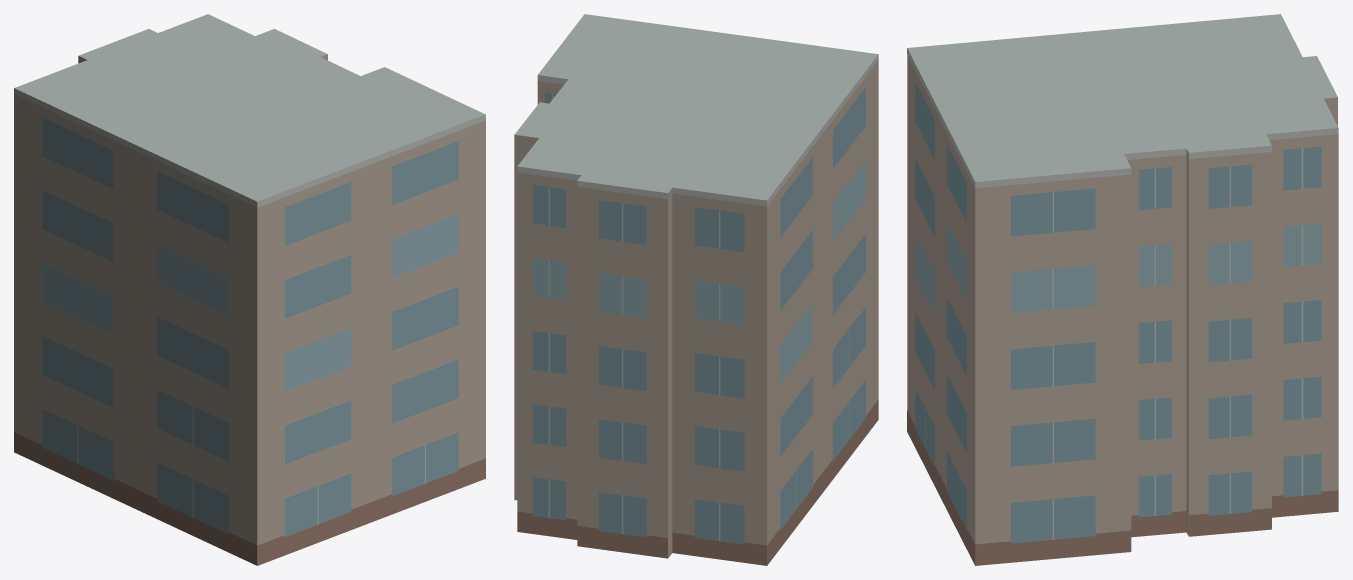
File: survey-upis-32489220.glb
3 renders of one model, left to right at view 1: azimuth 30°, elevation 25°; view 2: azimuth 150°, elevation 25°; view 3: azimuth 270°, elevation 25°, orthographic. The views are drawn at different scales.
Parts seen in each view (by area): view 1: survey-upis-32489220.tmp; view 2: survey-upis-32489220.tmp; view 3: survey-upis-32489220.tmp.
Boxes of the visible parts, box(x1,y1,x2,y2) form: survey-upis-32489220.tmp: box(14, 14, 485, 565); survey-upis-32489220.tmp: box(514, 14, 878, 565); survey-upis-32489220.tmp: box(907, 14, 1338, 565).
Size of the model in its own units: 14 by 14.9 by 15.19.
